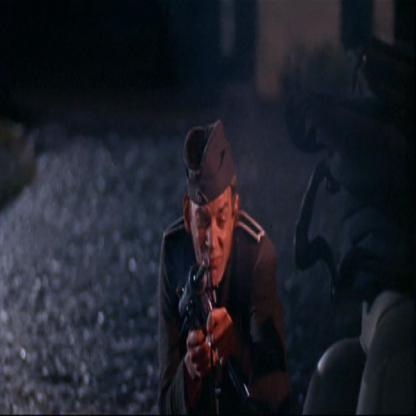Guns: (169, 248, 252, 415)
